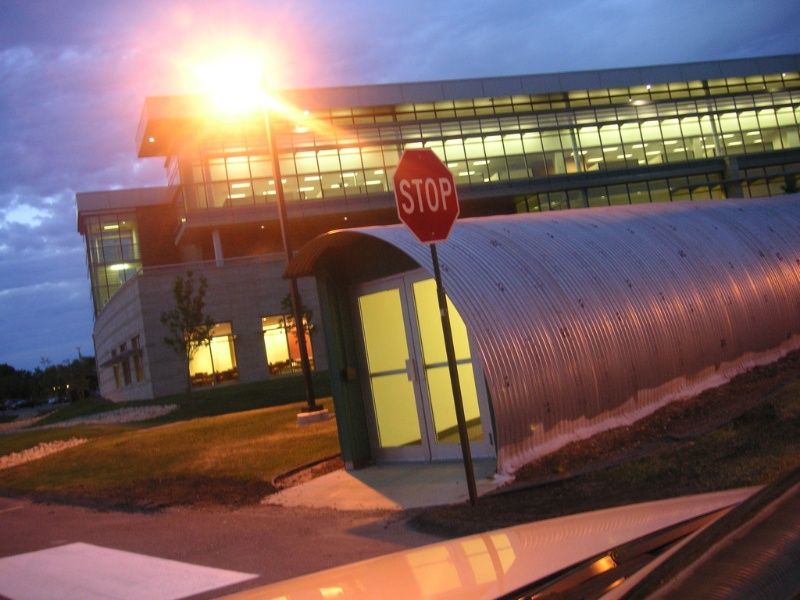stop: (392, 142, 460, 245)
